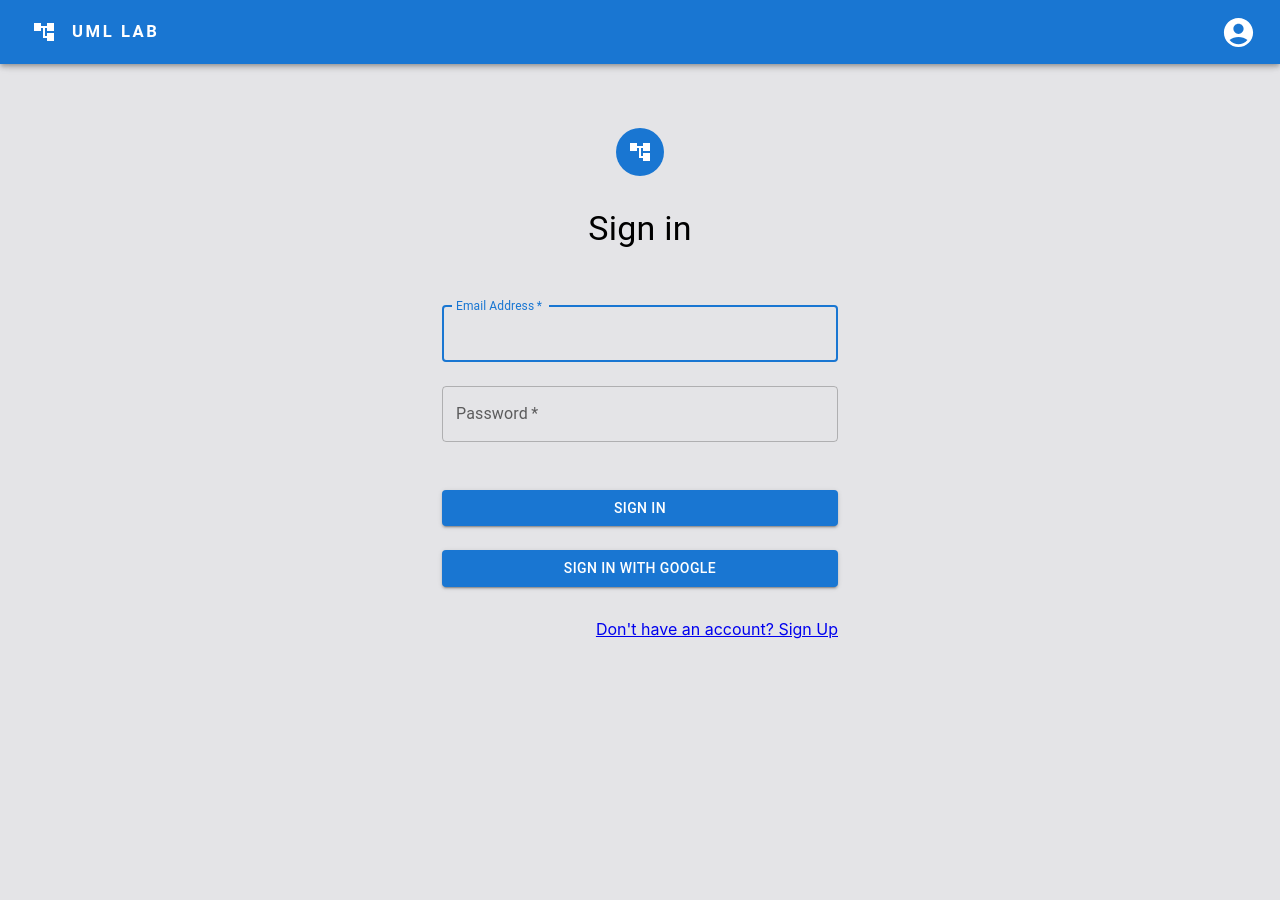
Login Testing › should tell user if no account exists with credentials
Type "no_exist@gmail.com" into the field with test id "email-box" at (640, 334), box [442,306,838,362]
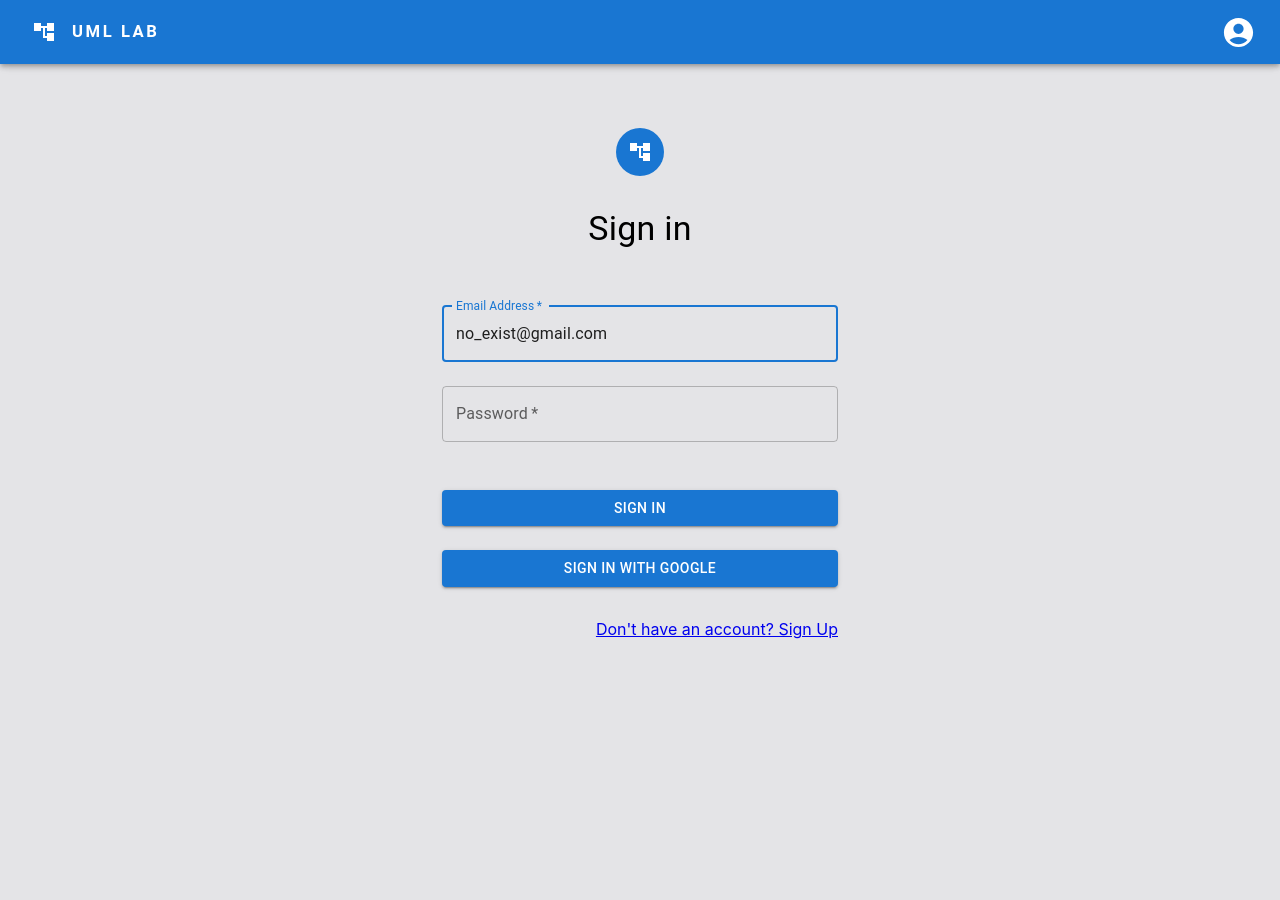
Type "password" into the password field with test id "password-box" at (640, 414), box [442,386,838,442]
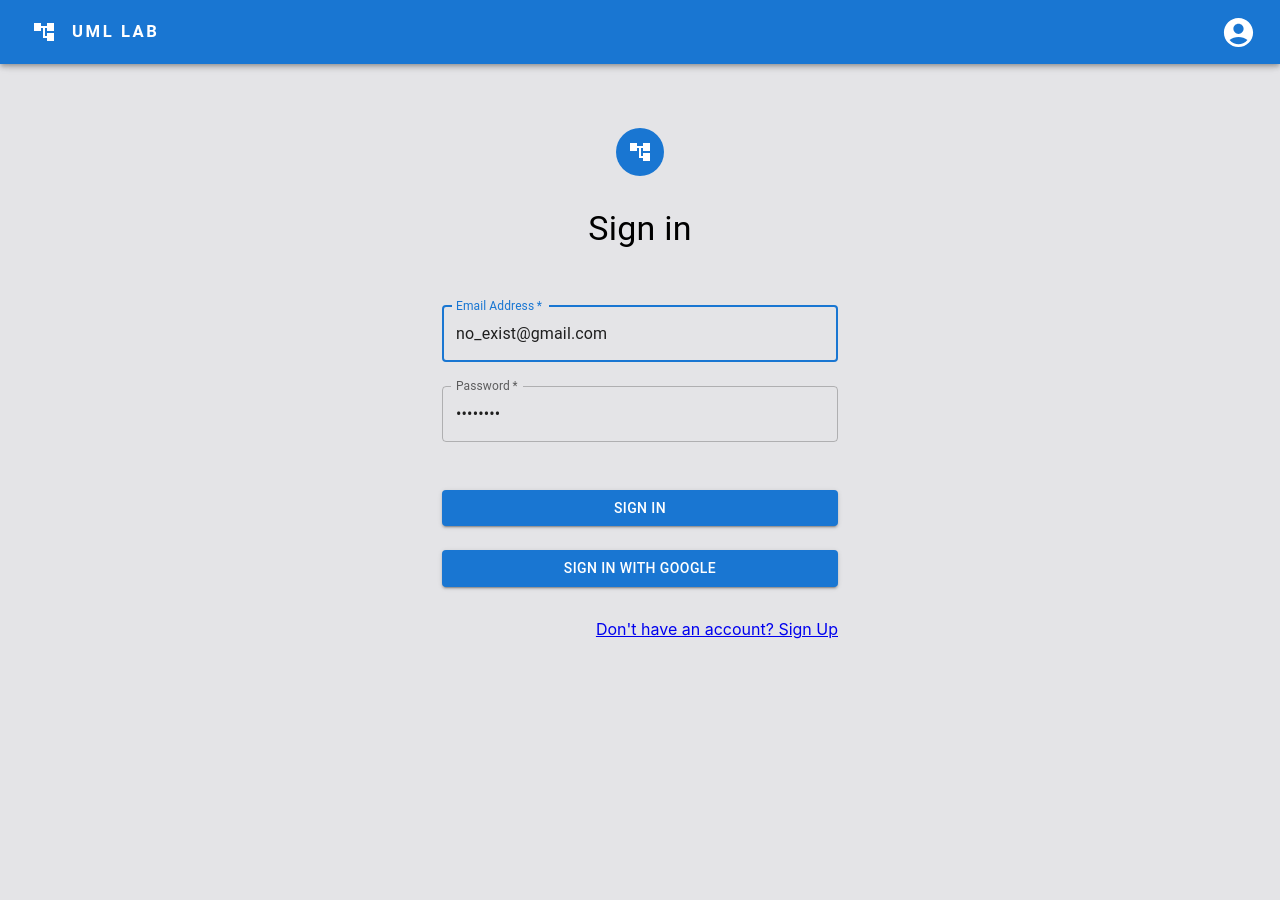
Click the button "Sign In" at (640, 508), box [442,490,838,526]
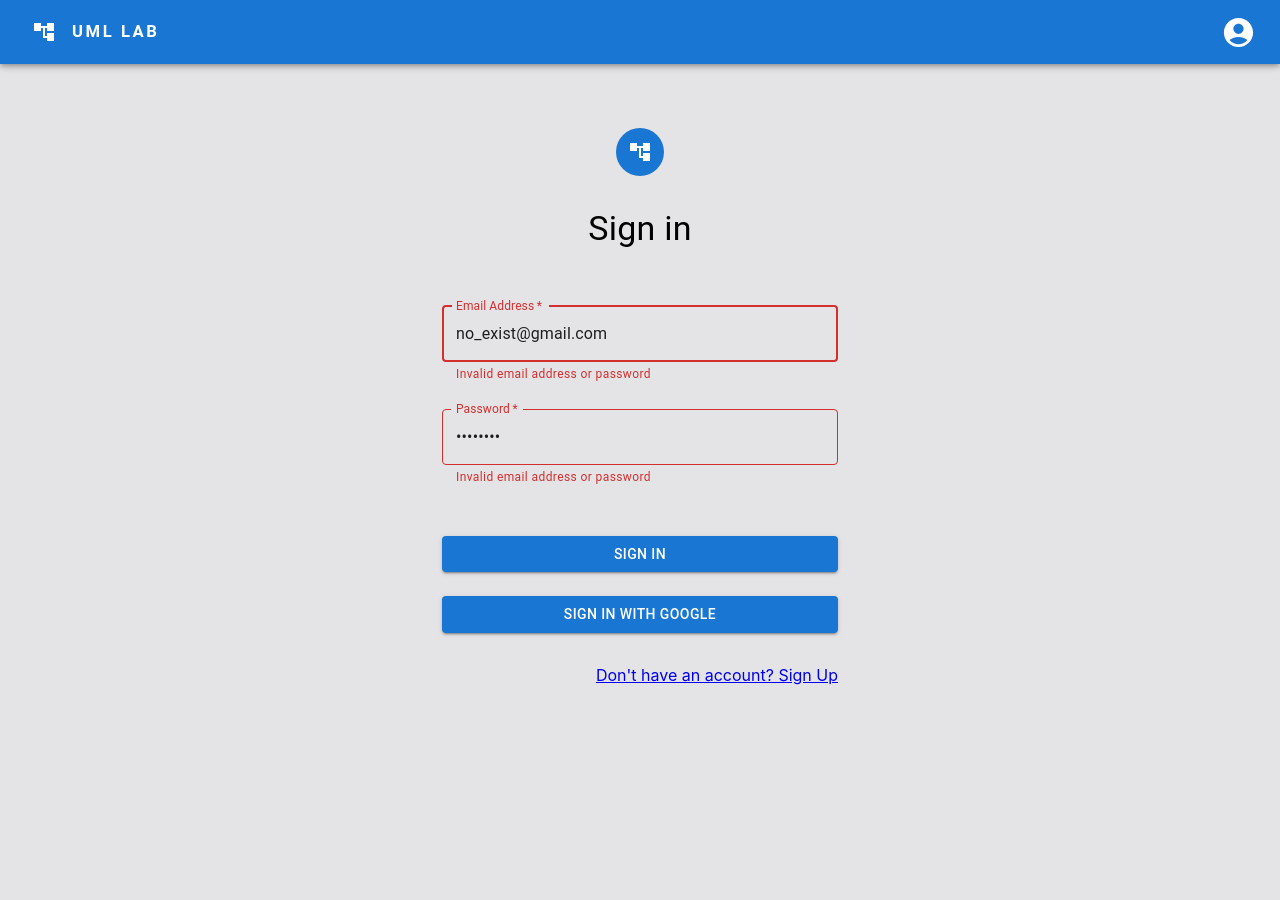
Expected: the 1st text "Invalid email address or password" is shown, [456,367,651,381]
